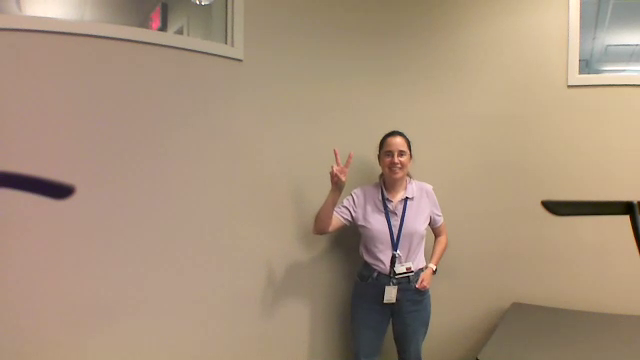peace: (322, 143, 356, 187)
